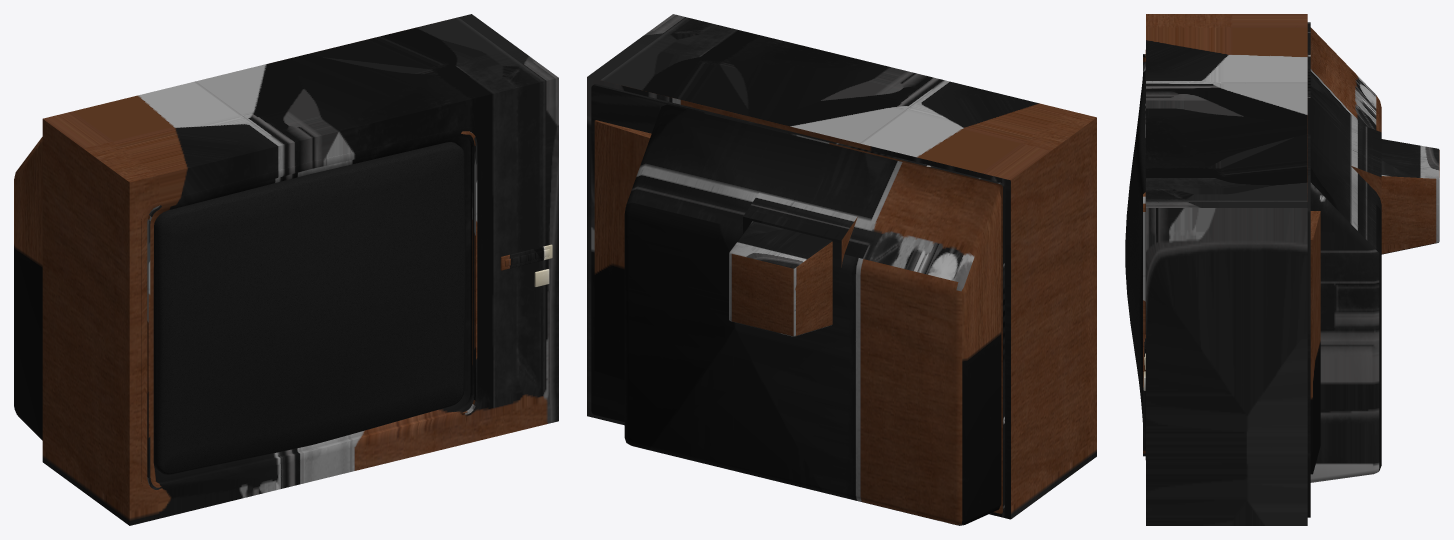
3 views of the same model, side by side, from view 1: azimuth 30°, elevation 25°; view 2: azimuth 150°, elevation 25°; view 3: azimuth 270°, elevation 25° (orthographic). The views are drawn at different scales.
Parts seen in each view (by area): view 1: TV; view 2: TV; view 3: TV.
Part boxes in pixels (x1,y1,x2,y2): TV: (14,14,558,525); TV: (587,14,1096,525); TV: (1125,14,1439,525).
Size of the model in its own units: 0.5231 by 0.4 by 0.3583.
